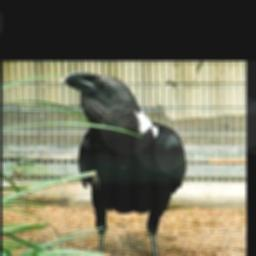Crow: (57, 71, 186, 256)
